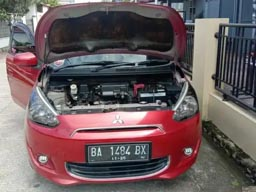plat: (88, 145, 149, 156)
